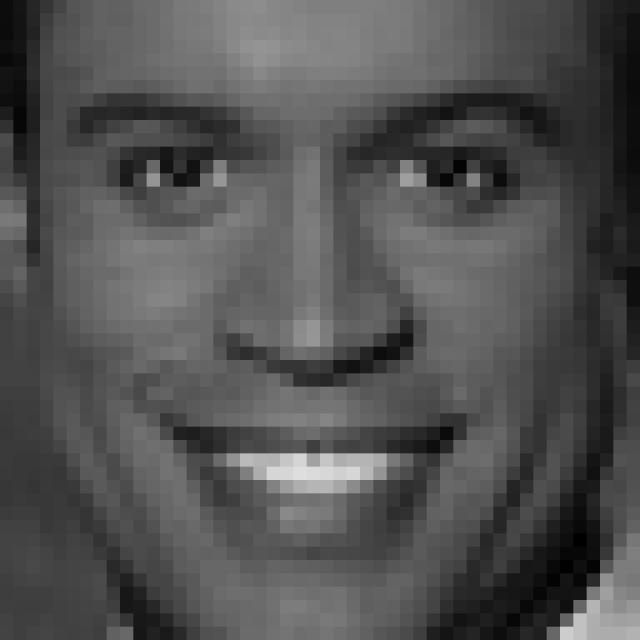happy: (55, 77, 595, 572)
